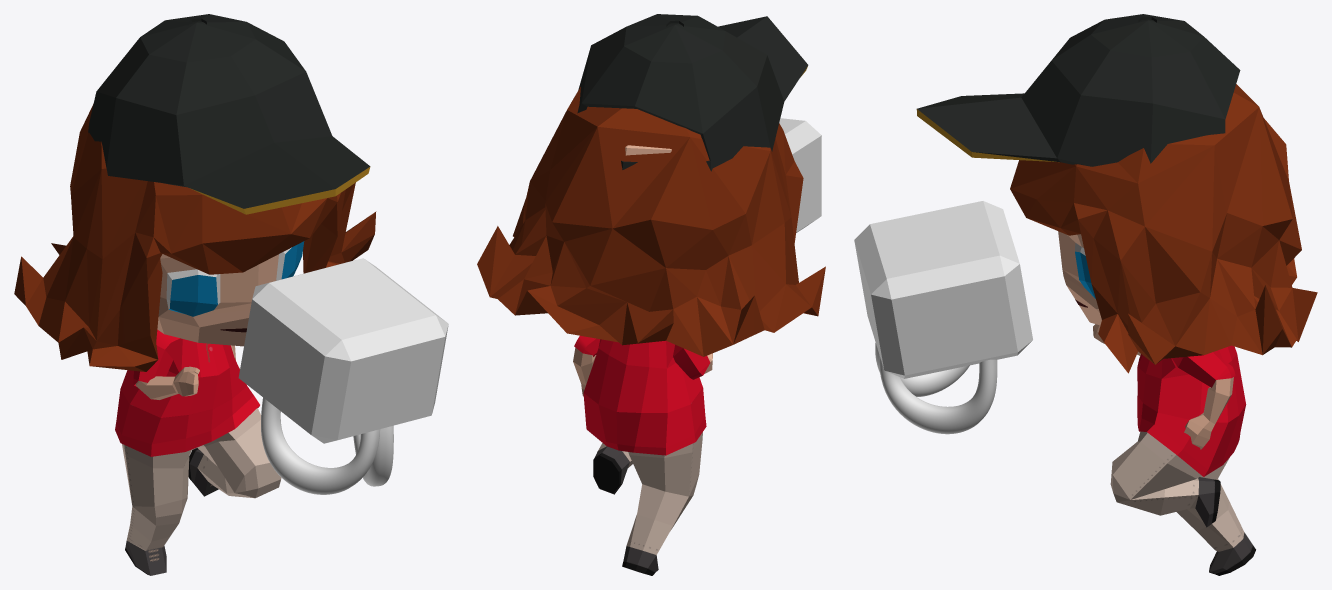
Rendered from courierwithbagrun 1.fbx.
3 renders of one model, left to right at view 1: azimuth 30°, elevation 25°; view 2: azimuth 150°, elevation 25°; view 3: azimuth 270°, elevation 25°, orthographic. The views are drawn at different scales.
Visible parts, largest first — view 1: baseball_cap, hair06, Cube, clothing, body, NurbsPath, NurbsPath.001; view 2: hair06, baseball_cap, clothing, Cube, body; view 3: hair06, baseball_cap, Cube, clothing, NurbsPath.001, body, NurbsPath.
Boxes of the visible parts, box(x1,y1,x2,y2) form: baseball_cap: box(88, 14, 370, 214); hair06: box(14, 104, 376, 371); Cube: box(238, 258, 448, 443); clothing: box(115, 329, 281, 575); body: box(135, 241, 304, 399); NurbsPath: box(261, 397, 380, 494); NurbsPath.001: box(353, 425, 393, 486); hair06: box(477, 87, 825, 356); baseball_cap: box(577, 14, 808, 171); clothing: box(574, 335, 710, 575); Cube: box(779, 118, 821, 232); body: box(573, 145, 712, 396); hair06: box(1010, 84, 1317, 373); baseball_cap: box(916, 14, 1240, 166); Cube: box(854, 201, 1032, 378); clothing: box(1110, 345, 1255, 575); NurbsPath.001: box(879, 355, 997, 434); body: box(1058, 231, 1233, 449); NurbsPath: box(875, 343, 969, 396).
Size of the model in its own units: 109 by 187 by 142.
9 materials, 1 textured.
